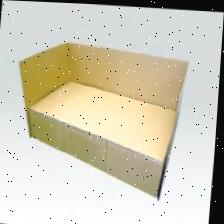cardboard: (0, 15, 203, 215)
